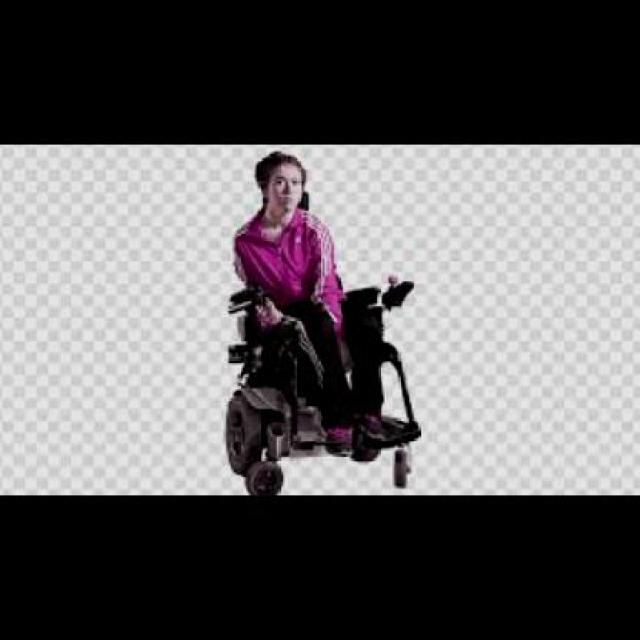wheelchairs: (203, 240, 435, 496)
